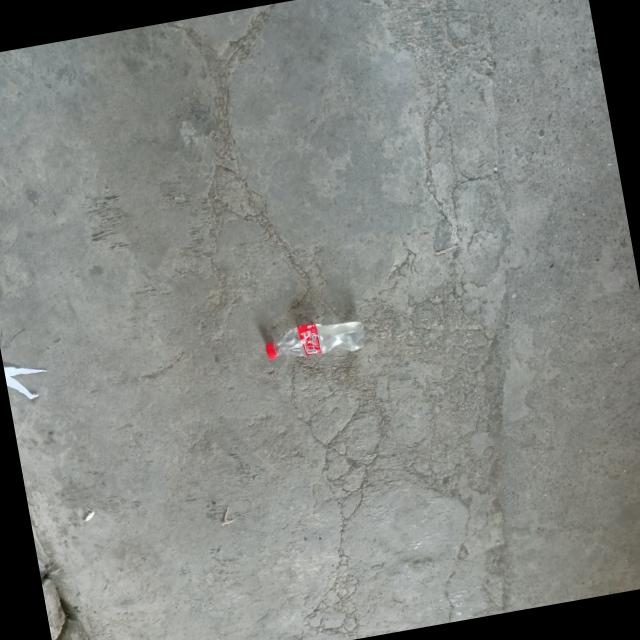Bottle: (265, 321, 364, 359)
